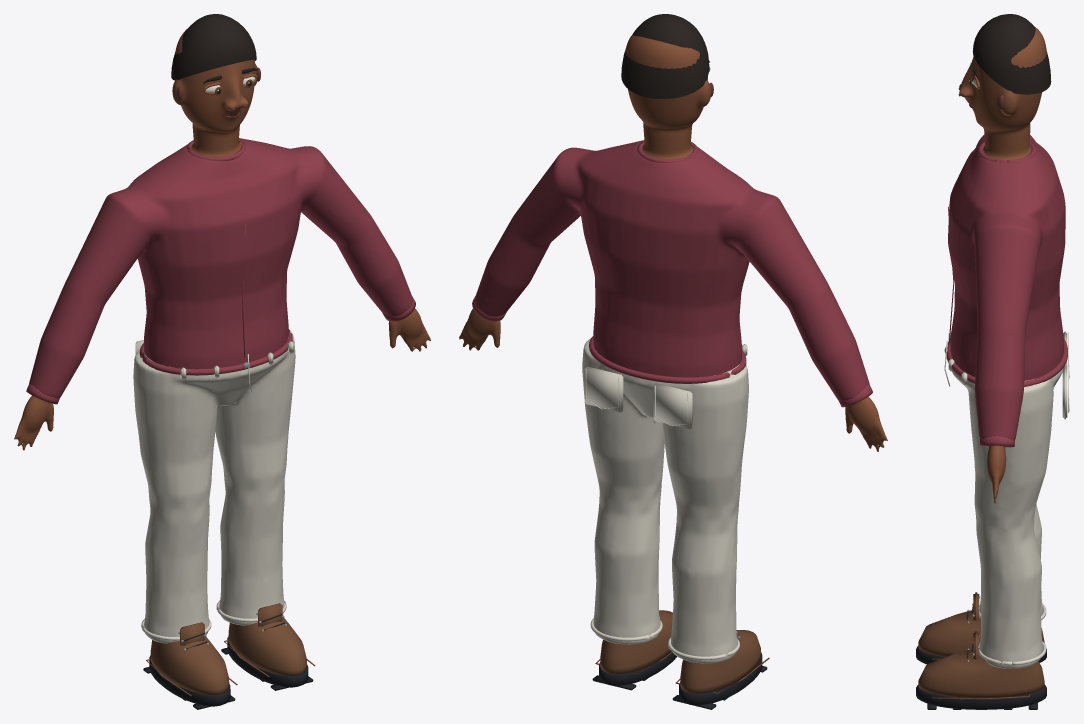
File: NPC2_05_Civil_Male_Burgundy.fbx
3 renders of one model, left to right at view 1: azimuth 30°, elevation 25°; view 2: azimuth 150°, elevation 25°; view 3: azimuth 270°, elevation 25°, orthographic. The views are drawn at different scales.
Parts seen in each view (by area): view 1: Garment_Top_Continuous.006, Trouser_Continuous.006, Skin_05_Civil_Male_Burgundy, Hair_Cap.006, Shoe_Upper.012, Shoe_Upper.013, Top_Hem.006, Shoe_Sole.012, Shoe_Sole.013; view 2: Garment_Top_Continuous.006, Trouser_Continuous.006, Skin_05_Civil_Male_Burgundy, Hair_Cap.006, Shoe_Upper.012, Shoe_Upper.013, Back_Pocket.012, Back_Pocket.013, Top_Hem.006, Shoe_Sole.012, Shoe_Sole.013; view 3: Garment_Top_Continuous.006, Trouser_Continuous.006, Skin_05_Civil_Male_Burgundy, Shoe_Upper.013, Hair_Cap.006, Shoe_Upper.012, Shoe_Sole.013, Top_Hem.006, Crew_Neck.003, Trouser_Hem.013, Sleeve_Cuff.013, Back_Pocket.013 (+1 smaller).
Part boxes in pixels (x1=…): Garment_Top_Continuous.006: x1=29, y1=138, x2=412, y2=398; Trouser_Continuous.006: x1=133, y1=330, x2=295, y2=643; Skin_05_Civil_Male_Burgundy: x1=14, y1=28, x2=430, y2=450; Hair_Cap.006: x1=171, y1=14, x2=256, y2=80; Shoe_Upper.012: x1=150, y1=637, x2=229, y2=694; Shoe_Upper.013: x1=228, y1=618, x2=306, y2=675; Top_Hem.006: x1=139, y1=329, x2=292, y2=375; Shoe_Sole.012: x1=149, y1=655, x2=230, y2=706; Shoe_Sole.013: x1=227, y1=637, x2=308, y2=687; Garment_Top_Continuous.006: x1=475, y1=140, x2=869, y2=401; Trouser_Continuous.006: x1=582, y1=338, x2=748, y2=663; Skin_05_Civil_Male_Burgundy: x1=459, y1=34, x2=887, y2=451; Hair_Cap.006: x1=621, y1=14, x2=709, y2=99; Shoe_Upper.012: x1=680, y1=630, x2=761, y2=693; Shoe_Upper.013: x1=600, y1=610, x2=672, y2=674; Back_Pocket.012: x1=653, y1=383, x2=692, y2=429; Back_Pocket.013: x1=584, y1=366, x2=623, y2=412; Top_Hem.006: x1=589, y1=336, x2=746, y2=383; Shoe_Sole.012: x1=679, y1=653, x2=762, y2=705; Shoe_Sole.013: x1=599, y1=652, x2=676, y2=685; Garment_Top_Continuous.006: x1=948, y1=135, x2=1065, y2=440; Trouser_Continuous.006: x1=952, y1=368, x2=1062, y2=668; Skin_05_Civil_Male_Burgundy: x1=959, y1=26, x2=1046, y2=503; Shoe_Upper.013: x1=918, y1=649, x2=1044, y2=698; Hair_Cap.006: x1=972, y1=14, x2=1051, y2=94; Shoe_Upper.012: x1=918, y1=610, x2=1044, y2=657; Shoe_Sole.013: x1=916, y1=685, x2=1046, y2=709; Top_Hem.006: x1=946, y1=338, x2=1067, y2=386; Crew_Neck.003: x1=978, y1=141, x2=1036, y2=162; Trouser_Hem.013: x1=979, y1=641, x2=1046, y2=665; Sleeve_Cuff.013: x1=979, y1=435, x2=1014, y2=447; Back_Pocket.013: x1=1062, y1=365, x2=1067, y2=419.
Size of the model in its own units: 1.24 by 1.85 by 0.388.
